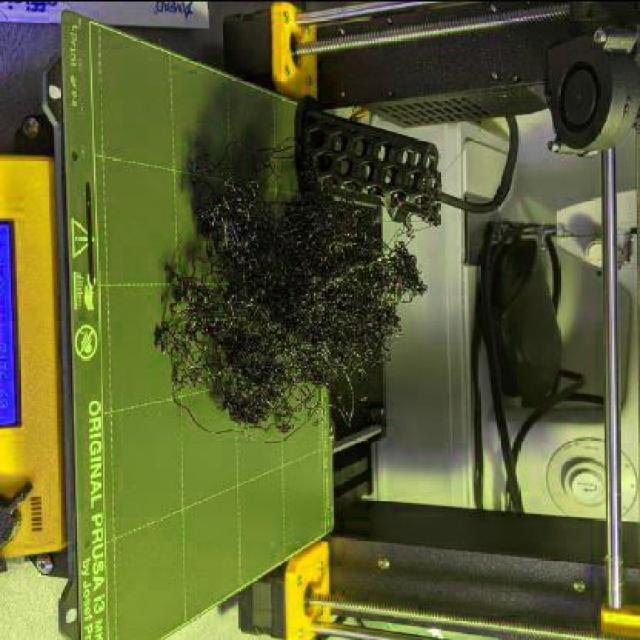Spaghetti: (157, 138, 428, 444)
